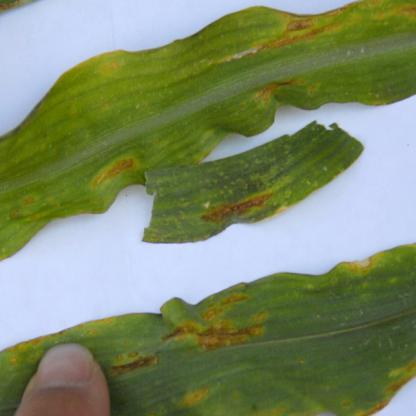Corn leaf blight: (1, 5, 414, 261), (115, 241, 415, 414)
